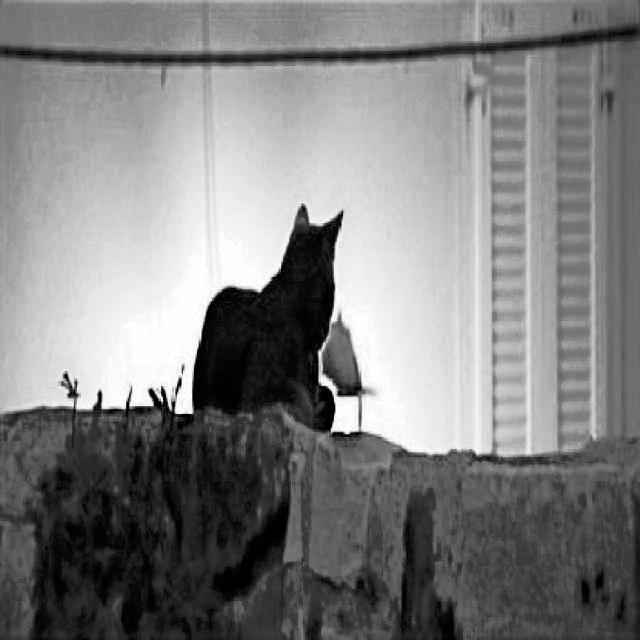Cat: (191, 186, 344, 443)
